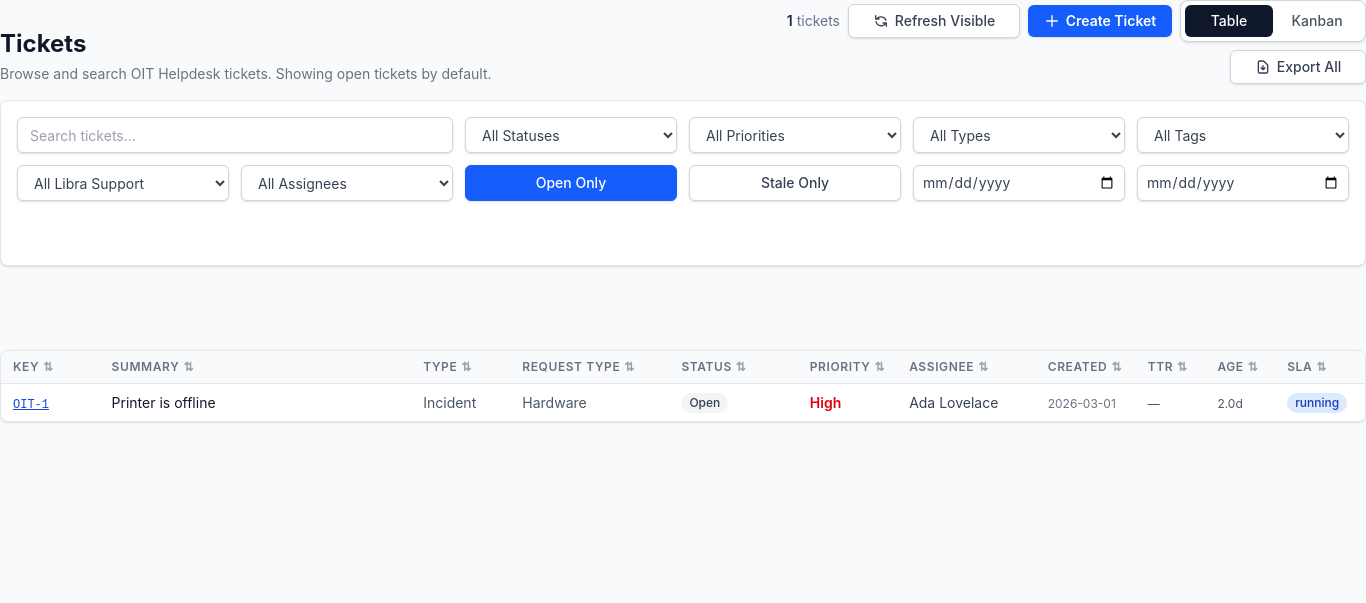
Scenario: TicketsPage › opens the local ticket view when the key link is clicked
The width and height of the screenshot is (1366, 603).
What coordinates should you click on to do the following:
click the link "OIT-1"
I would click on:
 (31, 404)
Its box is [13,398,49,412].
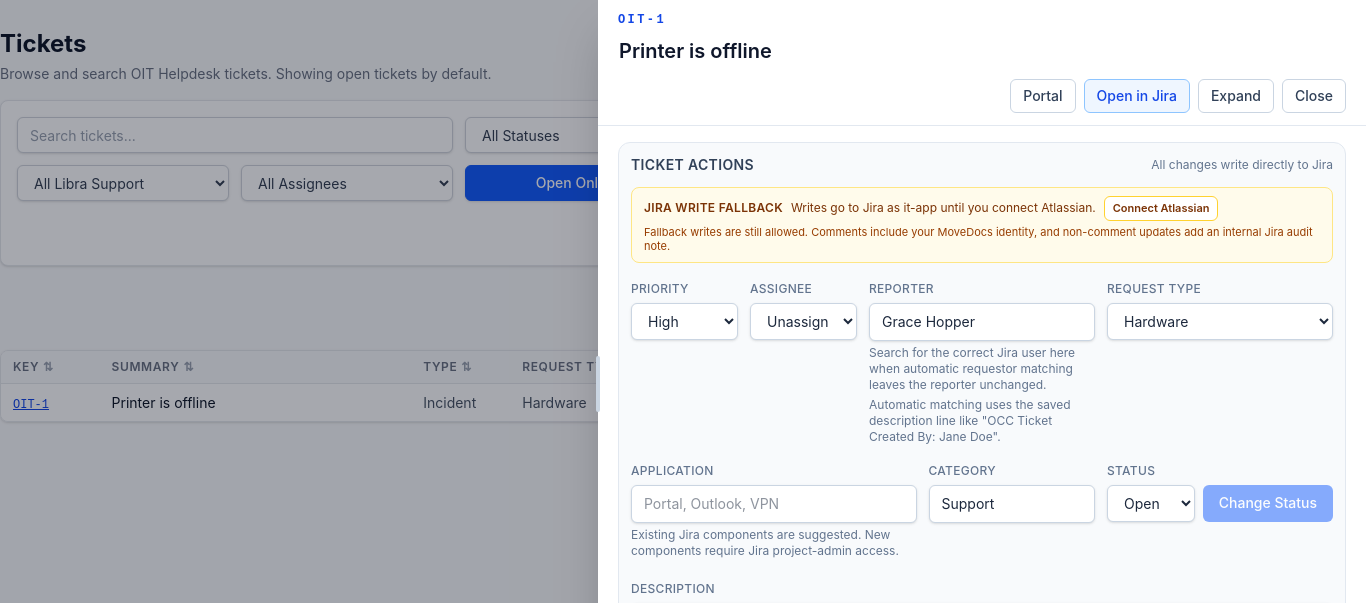
expect the heading "Ticket Actions" is shown: met, box [631,155,754,175]
